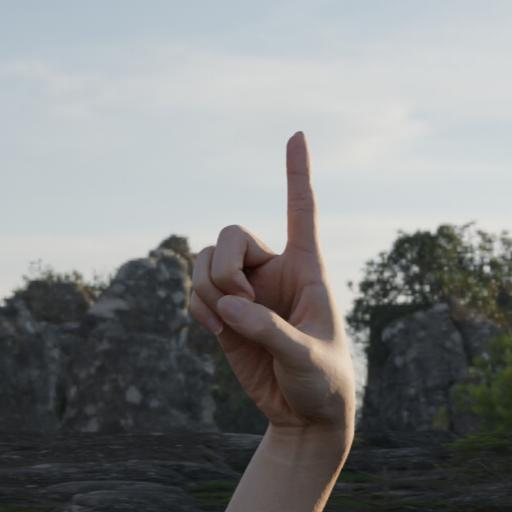D: (178, 124, 362, 434)
